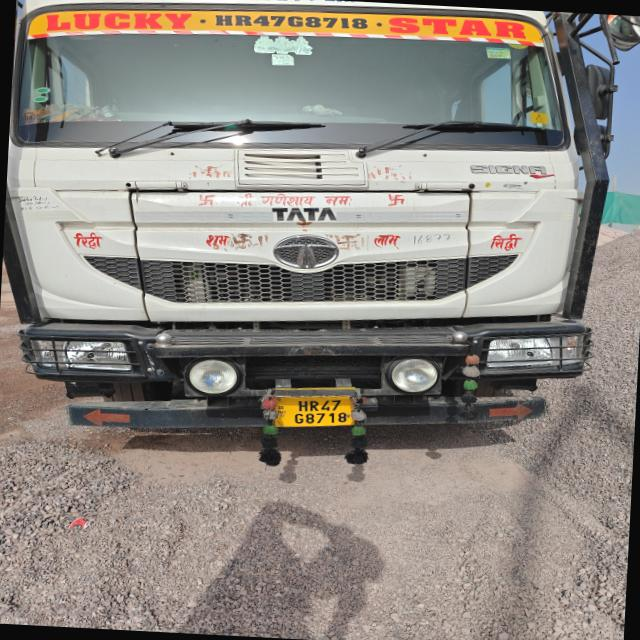license_plate: (275, 396, 355, 427)
